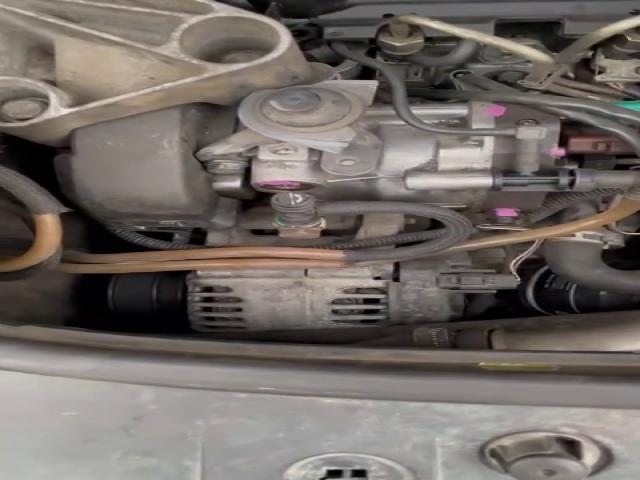alternator: (186, 264, 392, 332)
high_pressure_pump: (250, 101, 638, 223)
